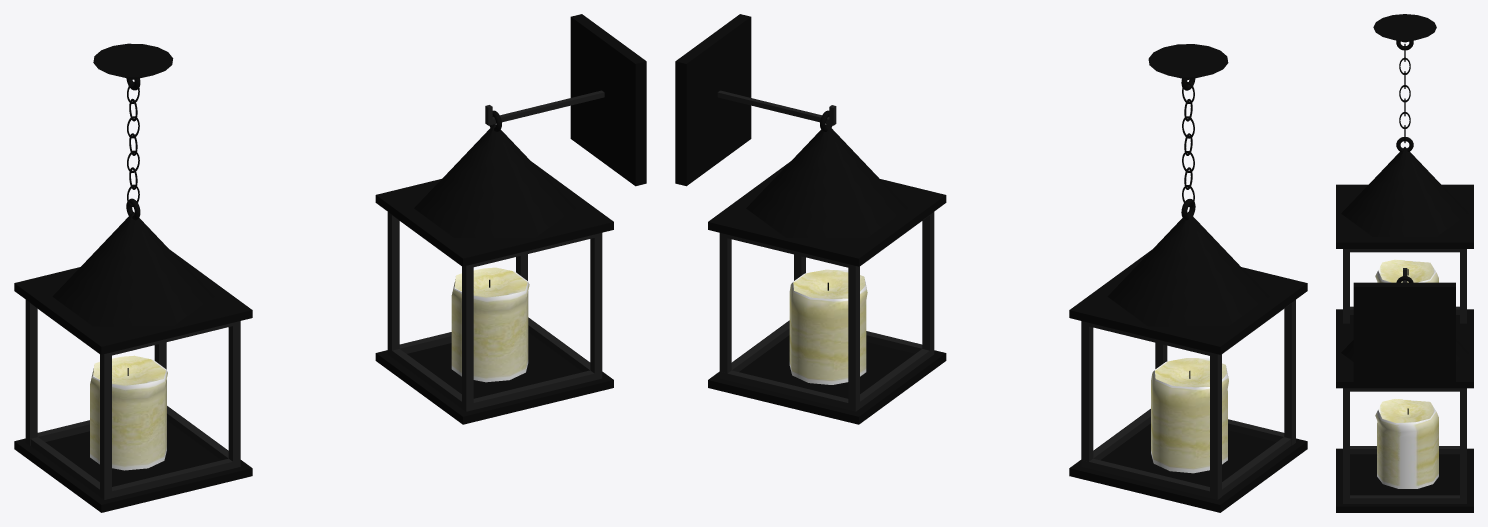
The model's file is Laternen.FBX.
3 views of the same model, side by side, from view 1: azimuth 30°, elevation 25°; view 2: azimuth 150°, elevation 25°; view 3: azimuth 270°, elevation 25° (orthographic). The views are drawn at different scales.
Parts seen in each view (by area): view 1: Box001, Box028; view 2: Box001, Box028; view 3: Box001, Box028.
Boxes of the visible parts, x1,y1,x2,y2 form: Box001: [375, 14, 646, 424]; Box028: [14, 43, 252, 512]; Box001: [675, 14, 946, 424]; Box028: [1069, 44, 1307, 512]; Box001: [1336, 268, 1473, 512]; Box028: [1336, 14, 1473, 323].
Bounding box in the file's own units: 29 × 20.02 × 7.87.
Materials: 3 (1 with a texture image).
